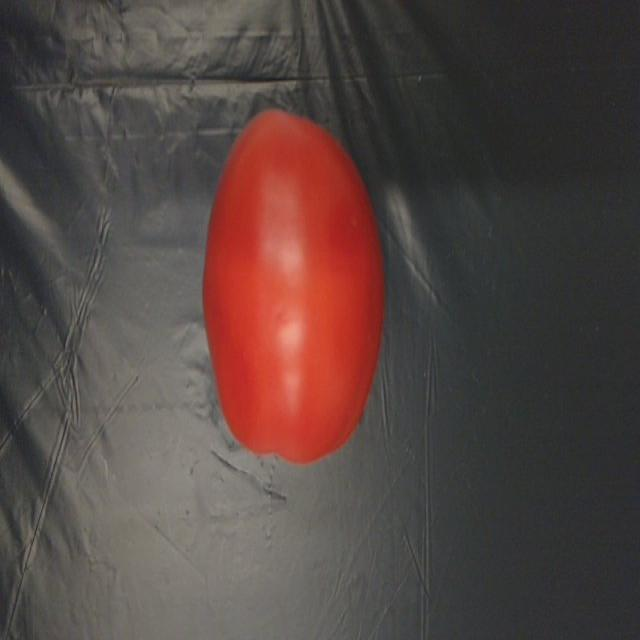kirmizi: (206, 92, 387, 478)
